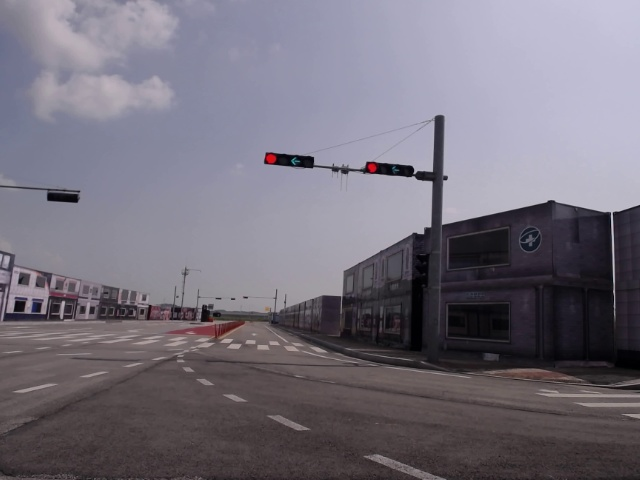left_green_4: (364, 161, 414, 177), (265, 152, 313, 168)
